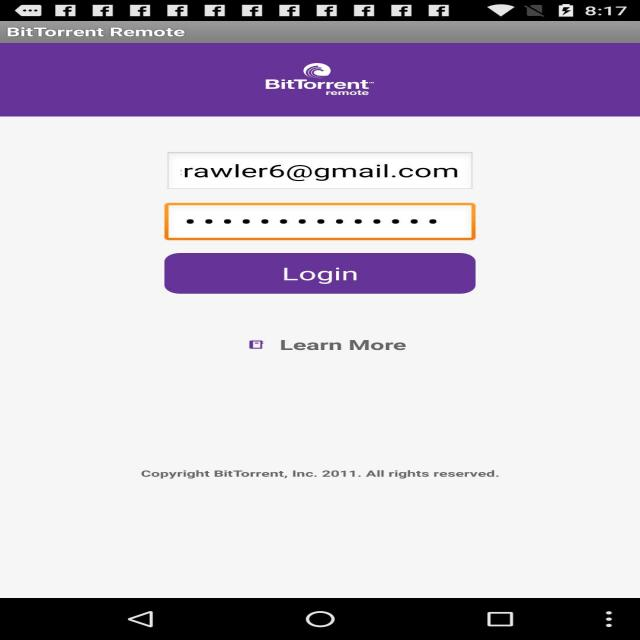button: (154, 245, 487, 299), (223, 329, 425, 360)
text: (166, 153, 482, 192)
